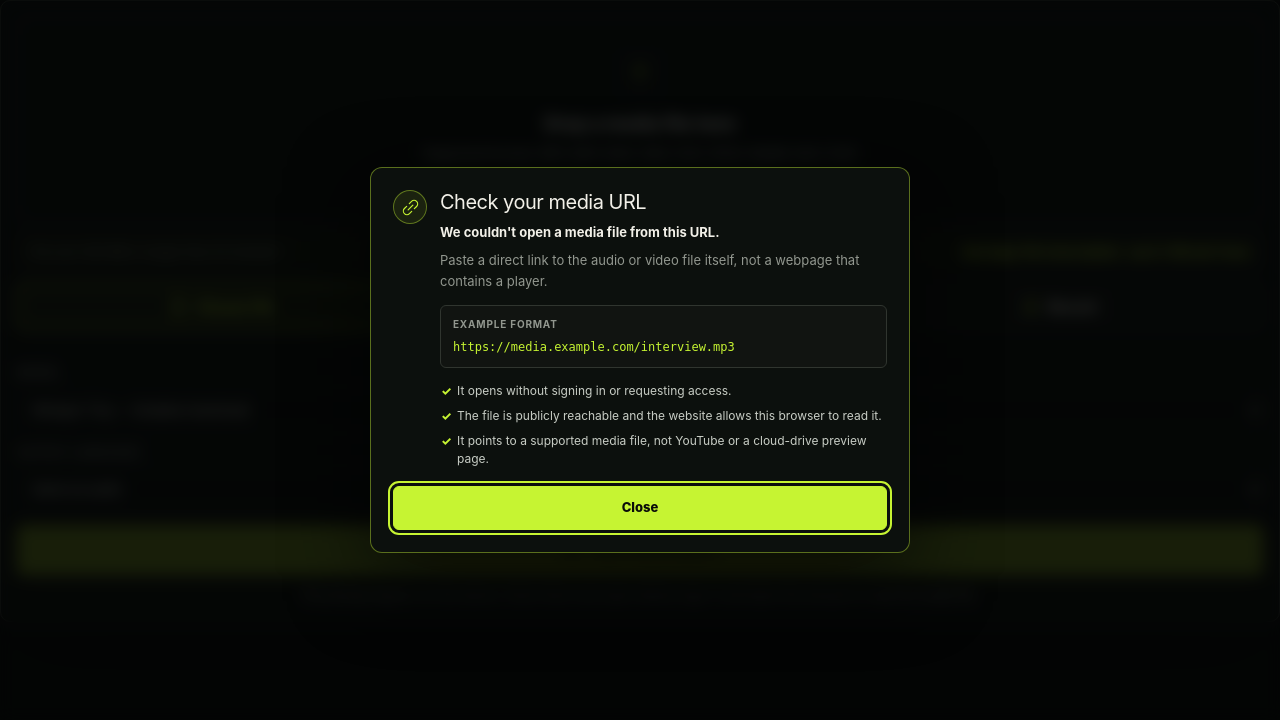
TranscriptionWorkspace › 以弹窗展示直链导入错误
expect the dialog "Check your media URL" shows "We couldn't open a media file from this URL.": met, box [440,224,720,240]
expect the dialog "Check your media URL" shows "https://media.example.com/interview.mp3": met, box [453,340,735,354]
Click the button "Close" at (640, 508), box [393,486,887,530]
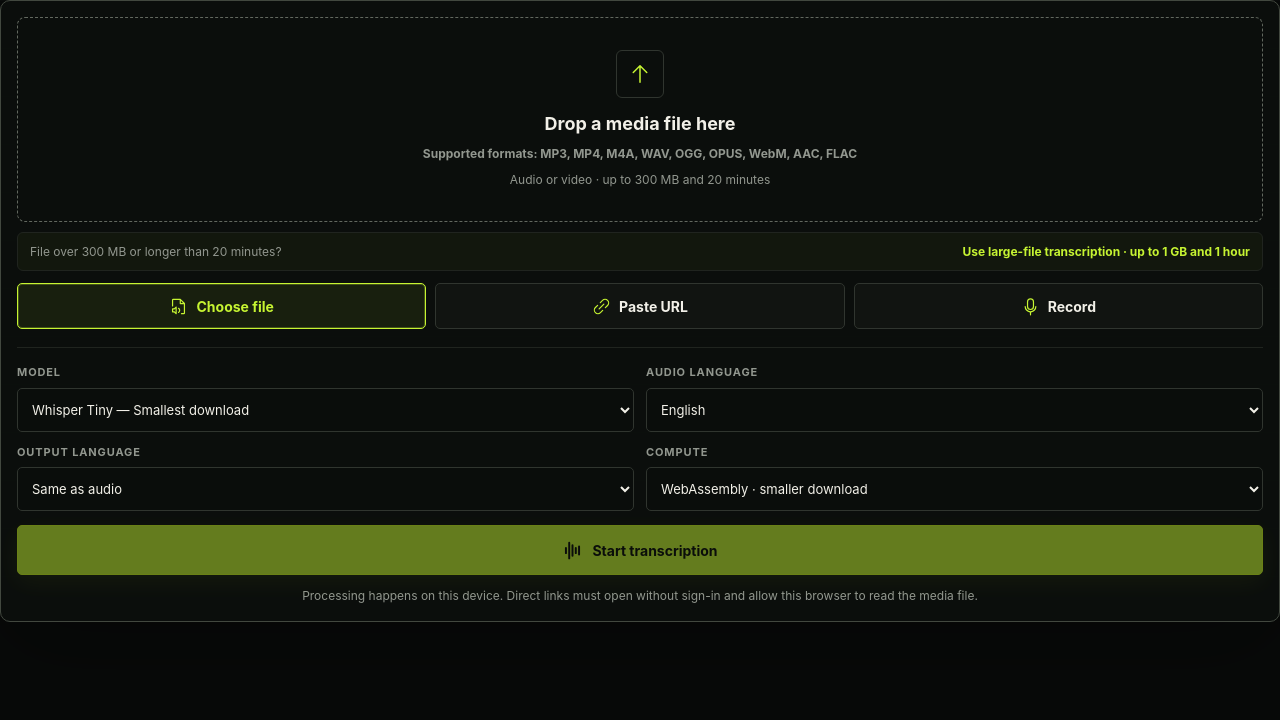
expect the dialog is gone: met
